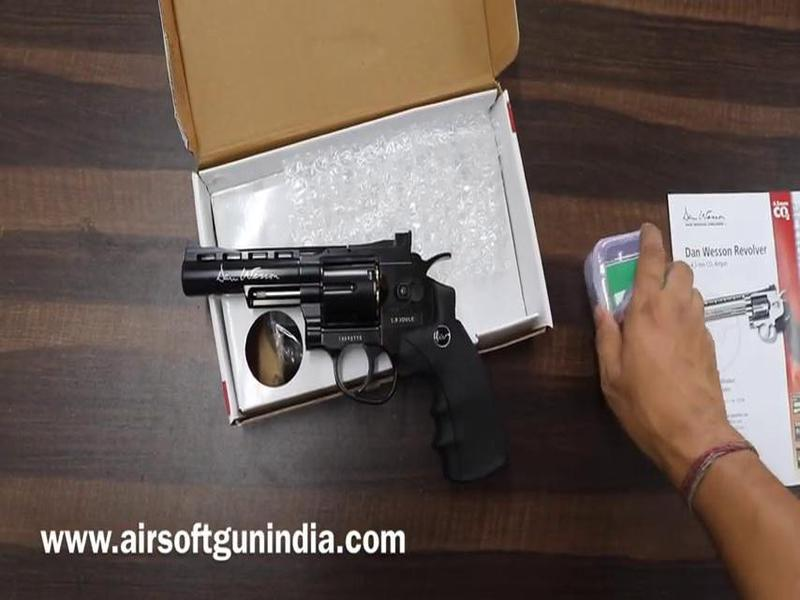Revolver: (167, 221, 495, 416)
